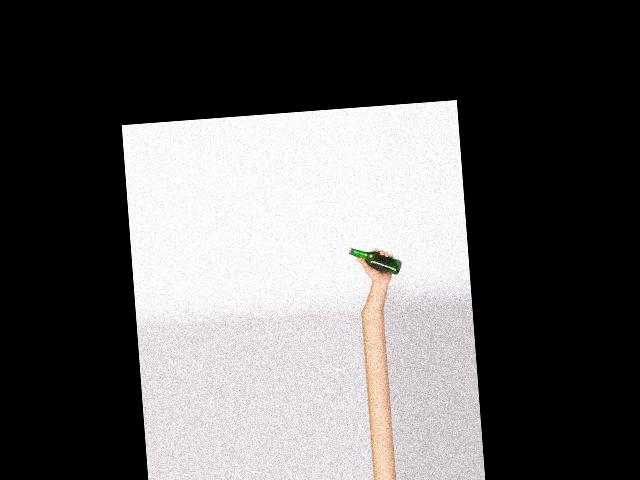beer: (348, 244, 402, 278)
